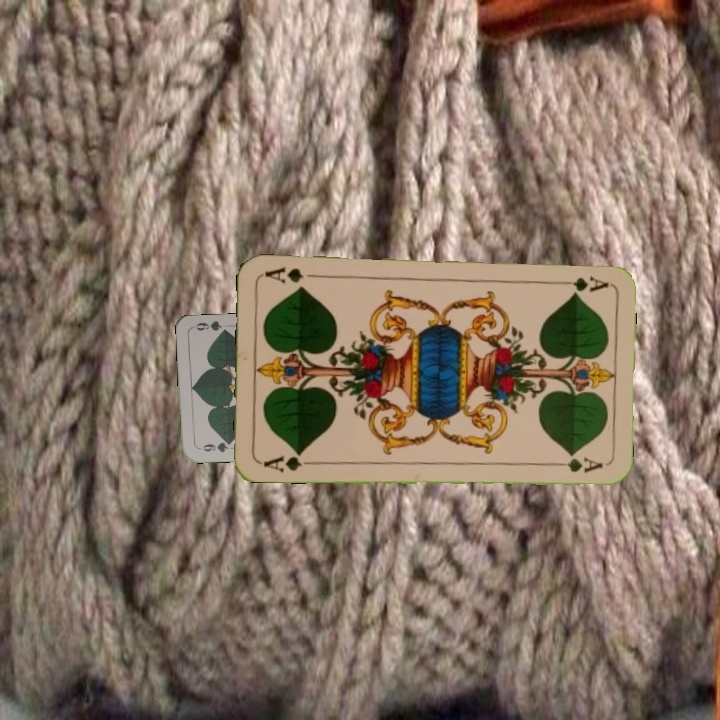G9: (195, 437, 235, 455)
GA: (259, 448, 317, 474), (551, 272, 610, 295)
